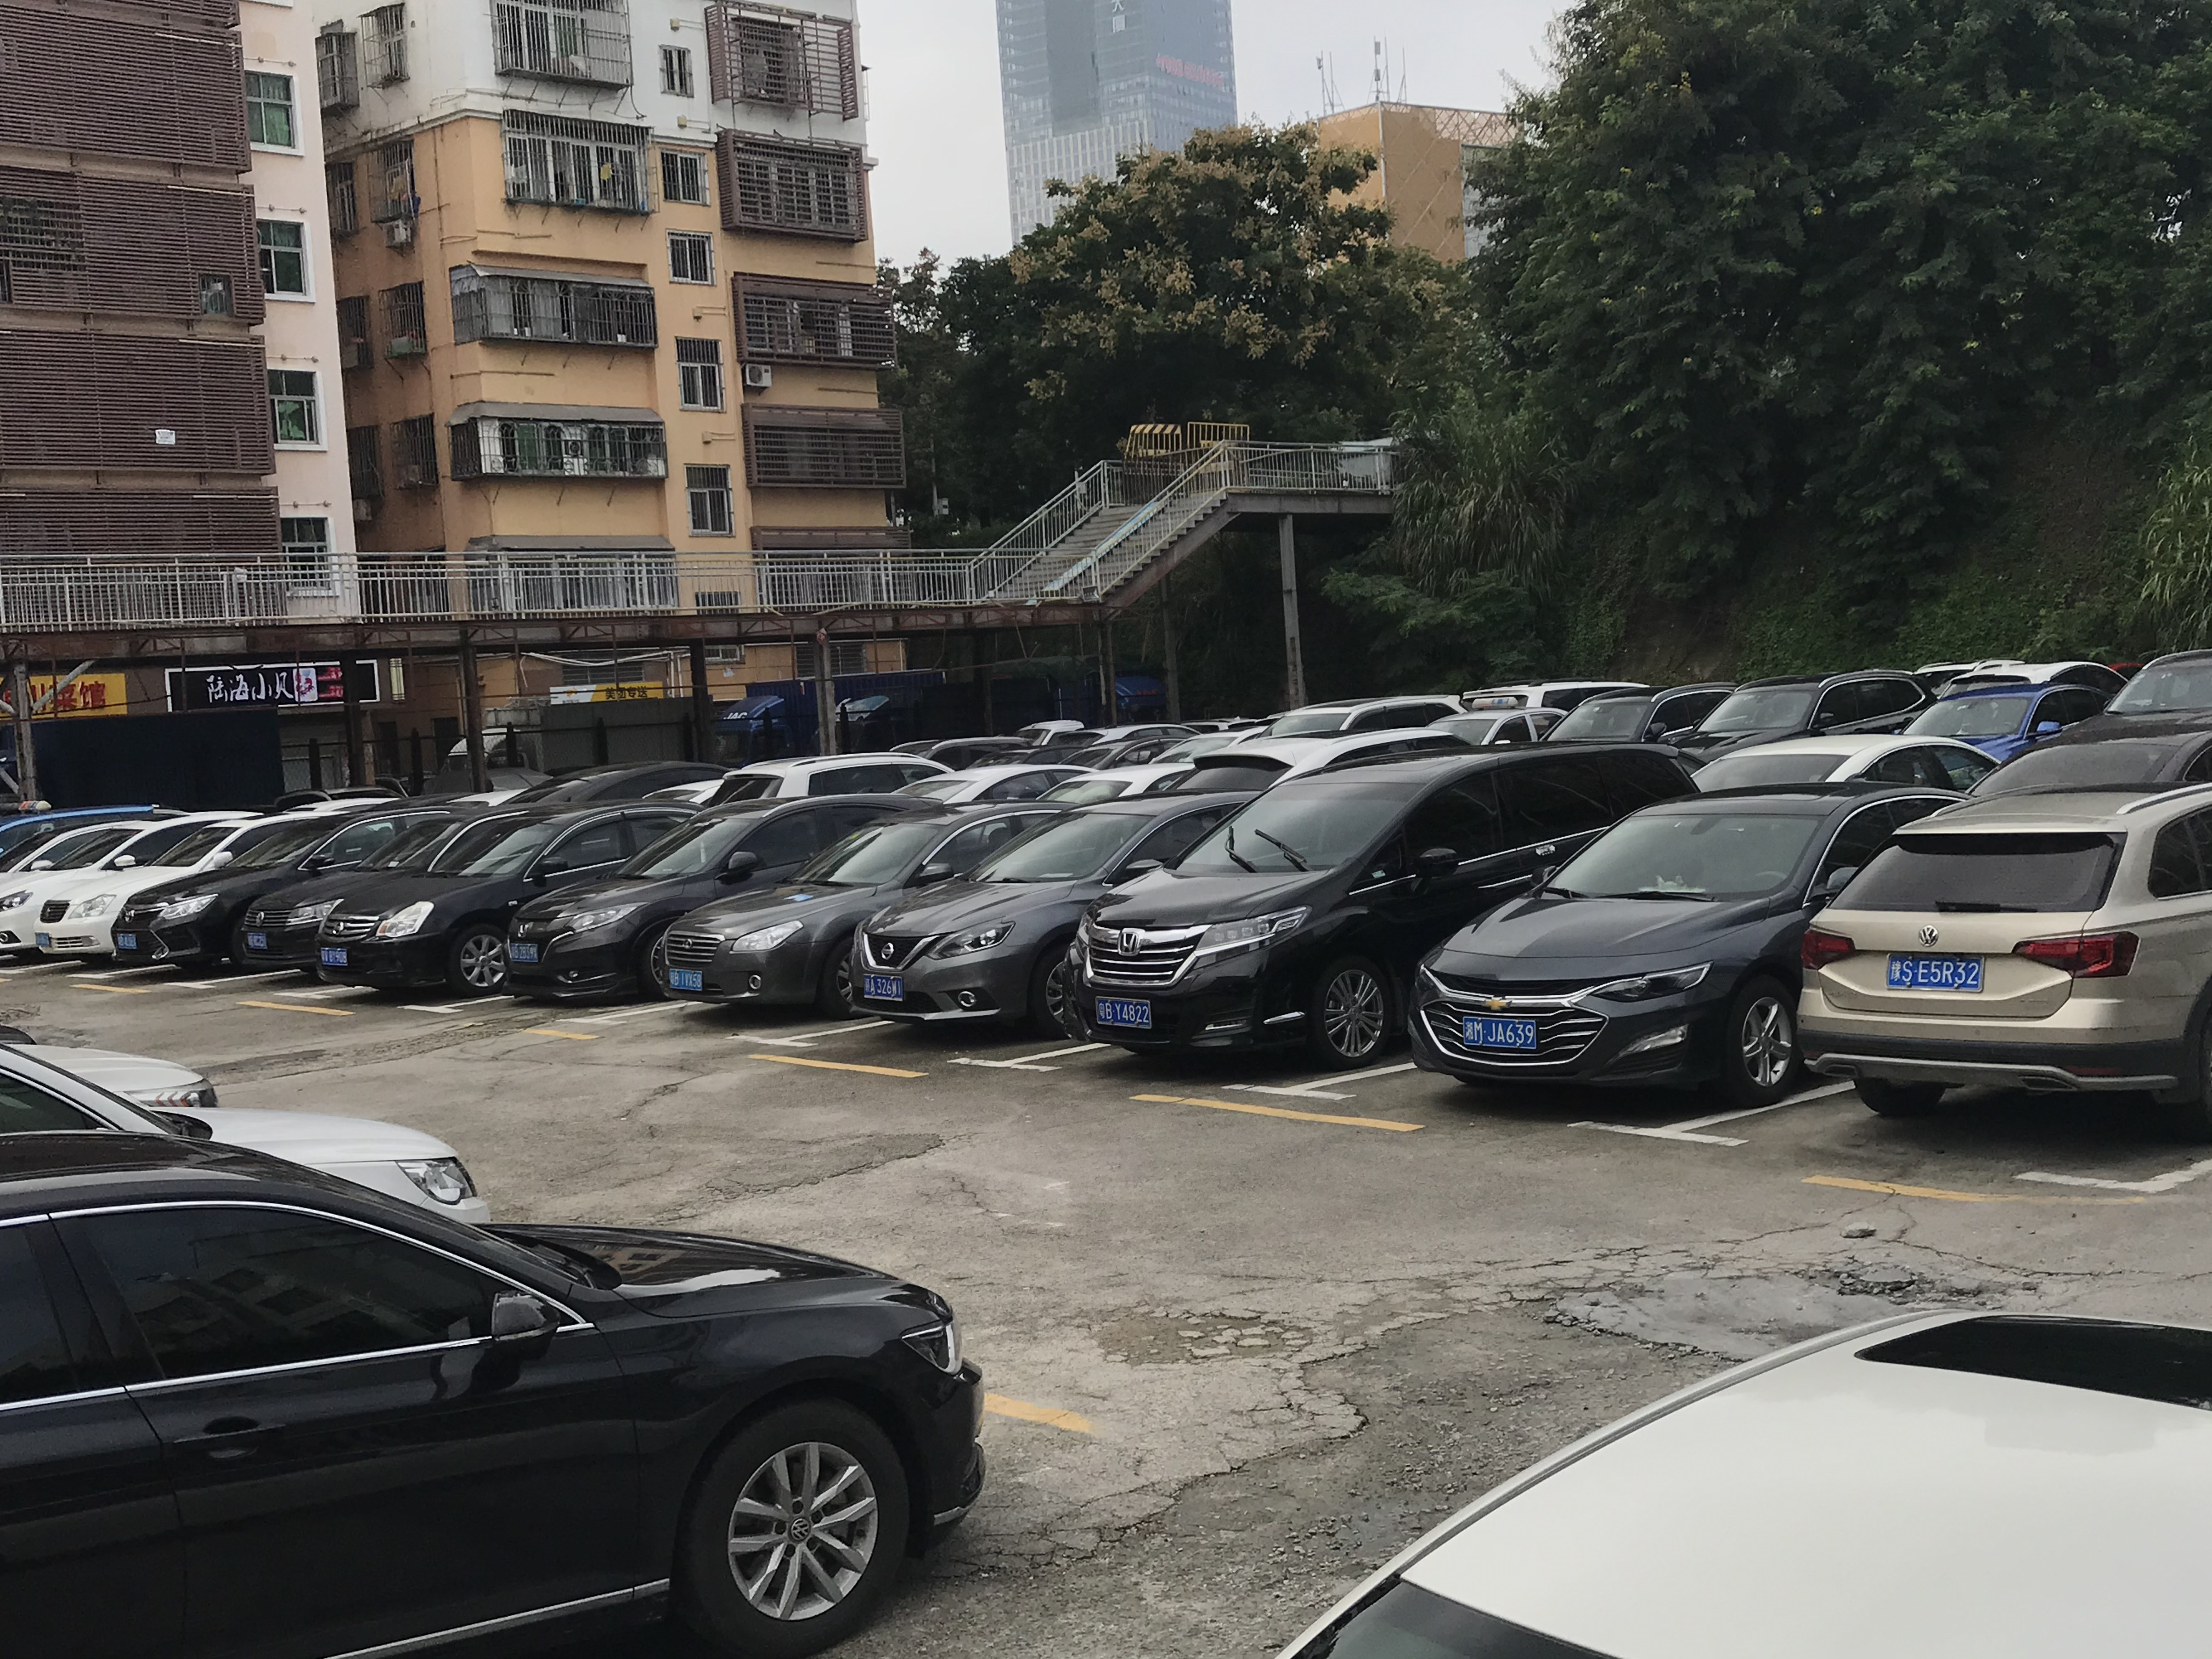bluePlate: (1886, 951, 1986, 993), (1461, 1014, 1540, 1047), (1094, 995, 1151, 1028), (862, 971, 906, 1002), (669, 967, 704, 992), (505, 941, 540, 960)
